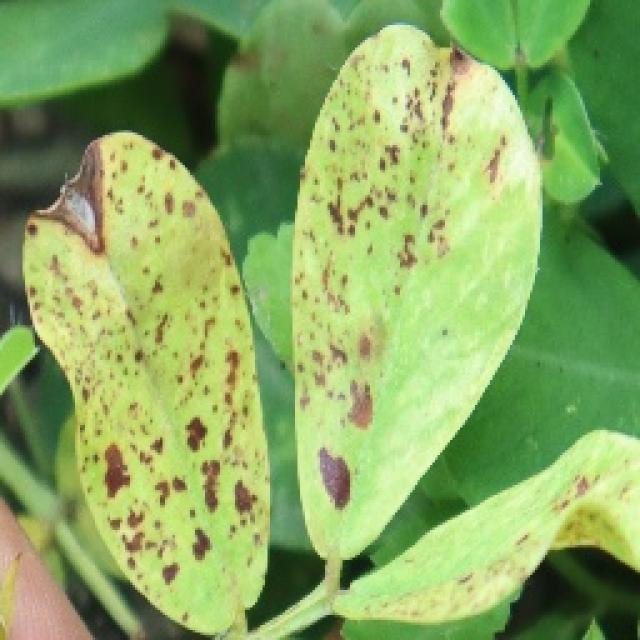Yellowish: (259, 28, 639, 609), (17, 125, 267, 605)
